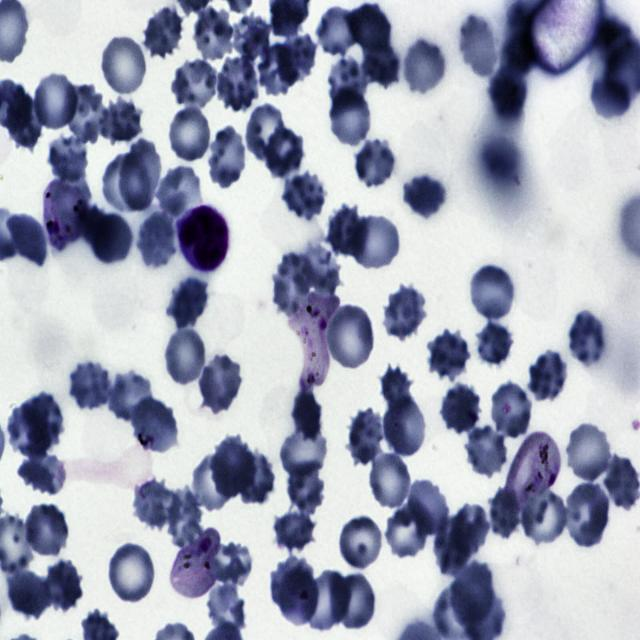leukocyte: (176, 204, 232, 275)
red blood cell: (324, 303, 376, 372), (105, 540, 158, 605), (562, 481, 612, 549), (98, 33, 150, 98), (119, 140, 164, 213), (348, 212, 402, 272), (101, 153, 150, 218), (466, 262, 518, 323), (457, 13, 502, 83), (564, 422, 614, 484), (400, 34, 448, 98), (520, 484, 568, 547), (327, 86, 374, 150), (382, 394, 428, 459), (449, 562, 494, 628), (162, 325, 208, 389), (304, 570, 351, 632), (279, 425, 329, 483), (367, 449, 413, 512), (31, 71, 80, 130), (166, 104, 214, 164), (196, 353, 244, 413), (331, 572, 379, 632), (336, 514, 386, 571), (272, 252, 314, 319), (152, 163, 204, 217), (170, 57, 220, 113), (130, 396, 178, 454), (190, 452, 235, 513), (62, 83, 106, 145), (88, 209, 134, 267), (206, 127, 248, 190), (487, 383, 530, 444), (24, 502, 70, 559), (406, 477, 451, 535), (386, 504, 431, 562), (342, 4, 393, 55), (244, 104, 288, 163), (381, 285, 428, 340), (107, 369, 154, 424), (566, 310, 609, 370), (21, 393, 66, 450), (212, 436, 254, 497), (192, 6, 236, 64), (300, 242, 344, 300), (432, 514, 472, 576), (136, 213, 178, 272), (8, 402, 52, 458), (216, 57, 260, 112), (278, 566, 319, 625), (400, 172, 448, 222), (353, 137, 398, 190), (164, 487, 203, 548), (132, 476, 176, 530), (316, 7, 362, 58), (262, 126, 306, 179), (257, 44, 300, 98), (270, 554, 313, 608), (236, 450, 278, 505), (281, 172, 327, 222), (7, 211, 48, 267), (66, 360, 110, 412), (142, 6, 185, 59), (527, 350, 569, 404), (5, 572, 52, 620), (17, 451, 68, 495), (44, 558, 84, 614), (206, 582, 246, 638), (439, 383, 481, 436), (168, 276, 210, 329), (451, 500, 490, 557), (47, 134, 91, 184), (285, 463, 327, 515), (276, 34, 317, 87), (347, 409, 385, 466), (6, 95, 42, 155), (100, 96, 144, 145), (485, 486, 523, 542), (272, 508, 318, 554), (209, 540, 255, 586), (473, 320, 516, 369), (466, 427, 509, 476), (326, 57, 368, 107), (326, 205, 366, 257), (589, 73, 632, 121), (232, 12, 272, 63), (360, 39, 400, 89), (428, 327, 470, 374), (606, 452, 639, 510), (289, 388, 325, 437), (378, 368, 414, 411)
trophozoite: (290, 292, 340, 390), (506, 431, 564, 502), (170, 528, 222, 603), (44, 180, 90, 250)
